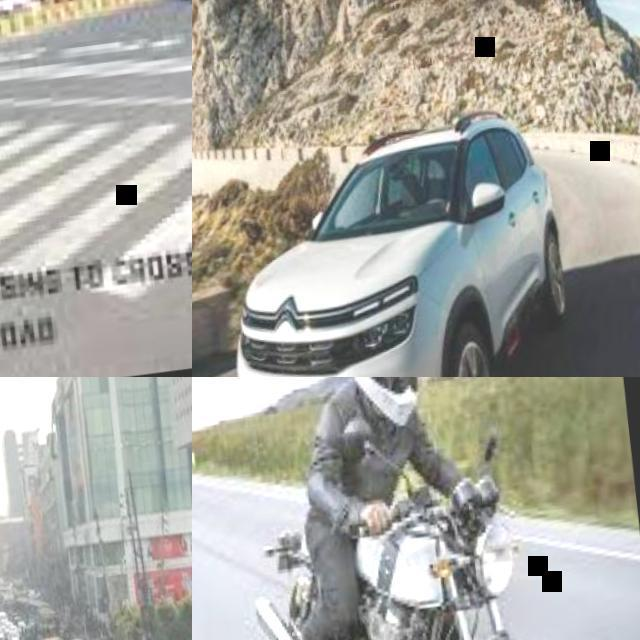car: (234, 109, 564, 376)
